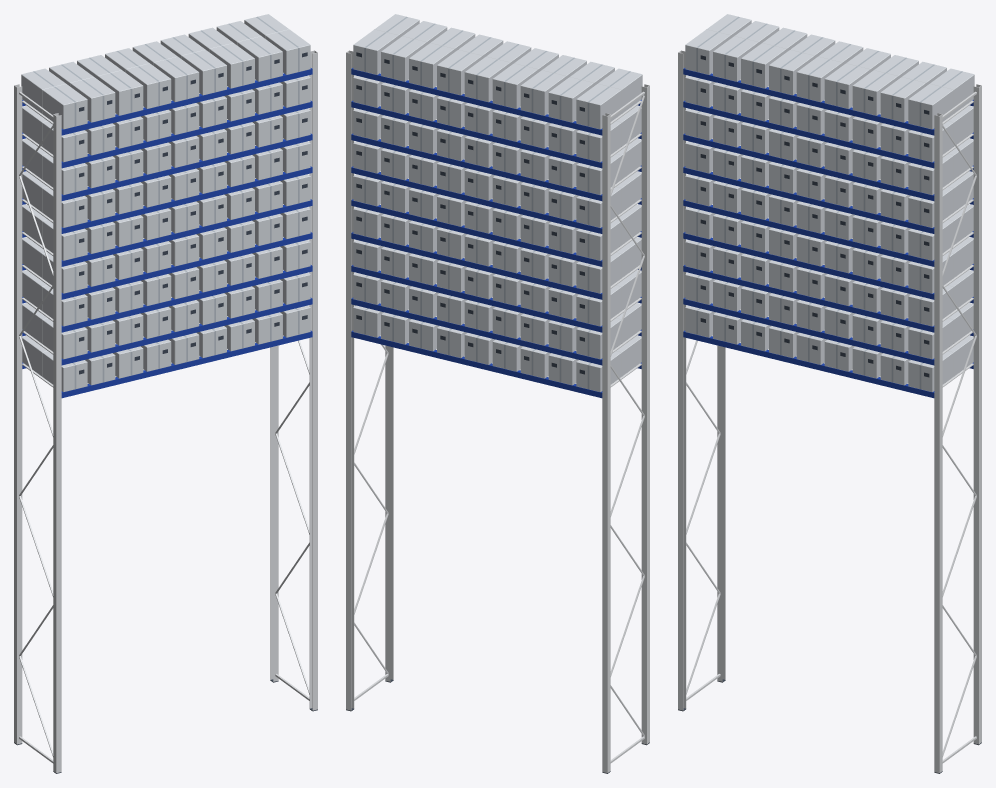
File: SM_MPR_CADRack_F20_W144_Passage.fbx
The picture shows the model from 3 angles, left to right: view 1: azimuth 30°, elevation 25°; view 2: azimuth 150°, elevation 25°; view 3: azimuth 330°, elevation 25°; orthographic projection.
Parts seen in each view (by area): view 1: SM_MPR_CADRack_F20_W144_Passage; view 2: SM_MPR_CADRack_F20_W144_Passage; view 3: SM_MPR_CADRack_F20_W144_Passage.
Part boxes in pixels (x1=…): SM_MPR_CADRack_F20_W144_Passage: x1=14, y1=14, x2=317, y2=773; SM_MPR_CADRack_F20_W144_Passage: x1=346, y1=14, x2=649, y2=773; SM_MPR_CADRack_F20_W144_Passage: x1=678, y1=14, x2=981, y2=773.
Size of the model in its own units: 381 by 107 by 929.
